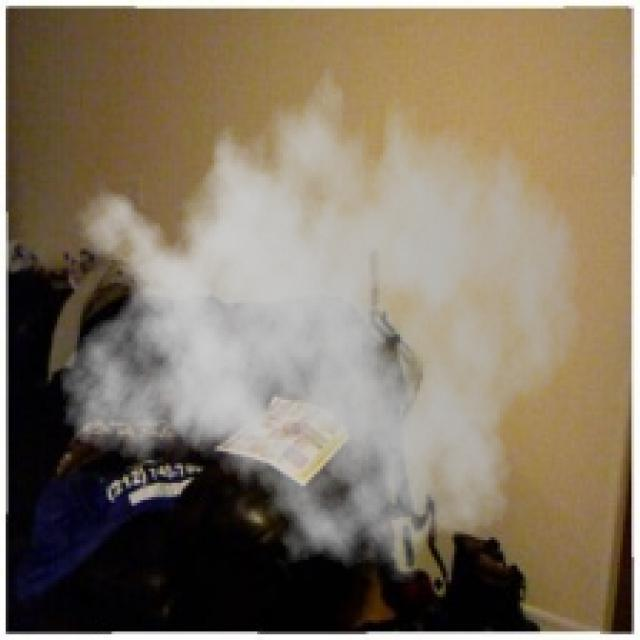Smoke: (57, 42, 583, 598)
